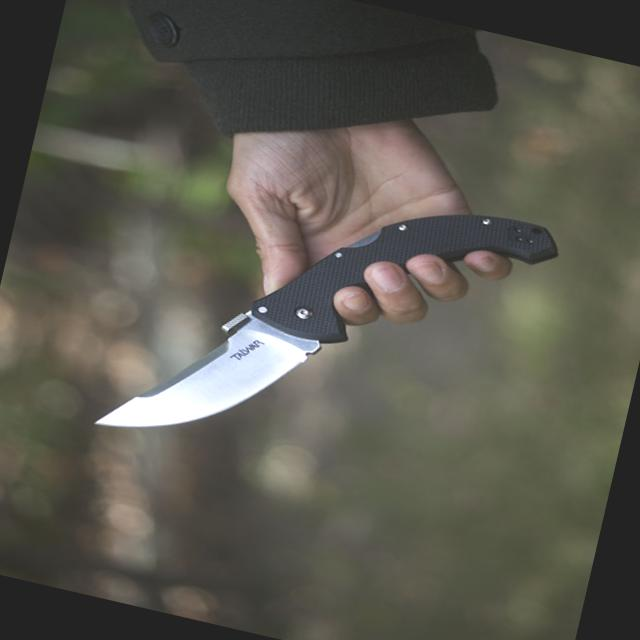knife: (80, 125, 568, 522)
